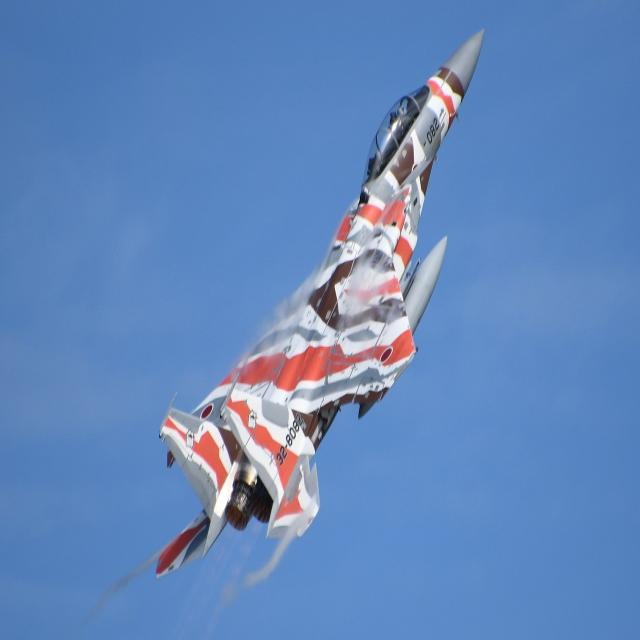MIL_Plane: (154, 26, 486, 582)
